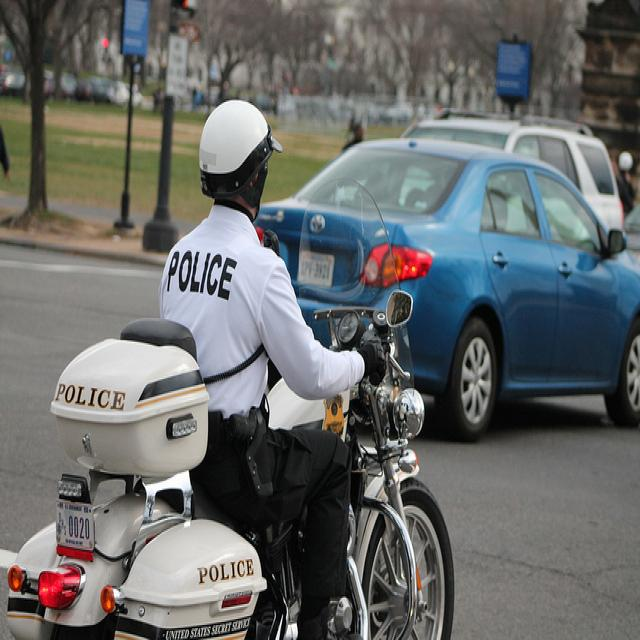motor: (6, 289, 457, 632), (616, 153, 636, 211)
